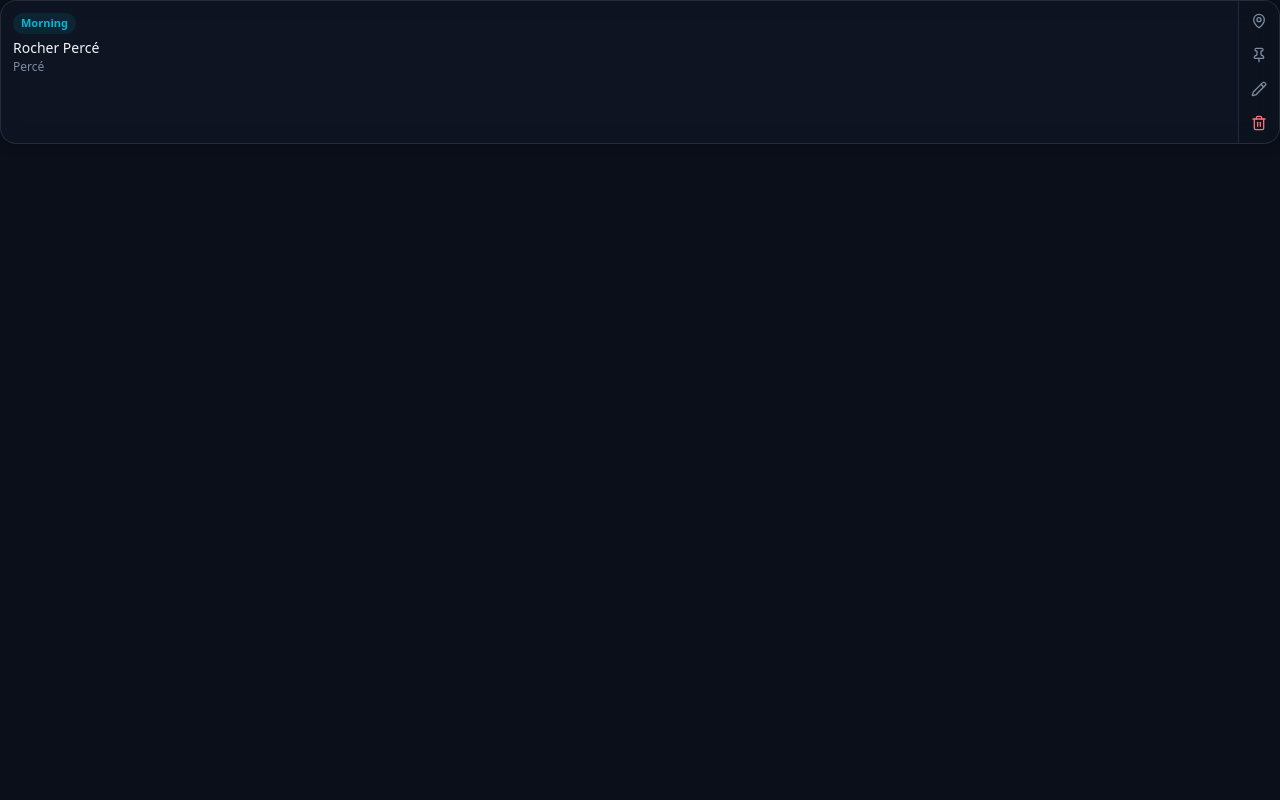
every editor ends the same way › the itinerary card says Save
The image size is (1280, 800).
Click the button named "Edit activity". click: {"x": 1259, "y": 89}
box: [1243,73,1275,105]
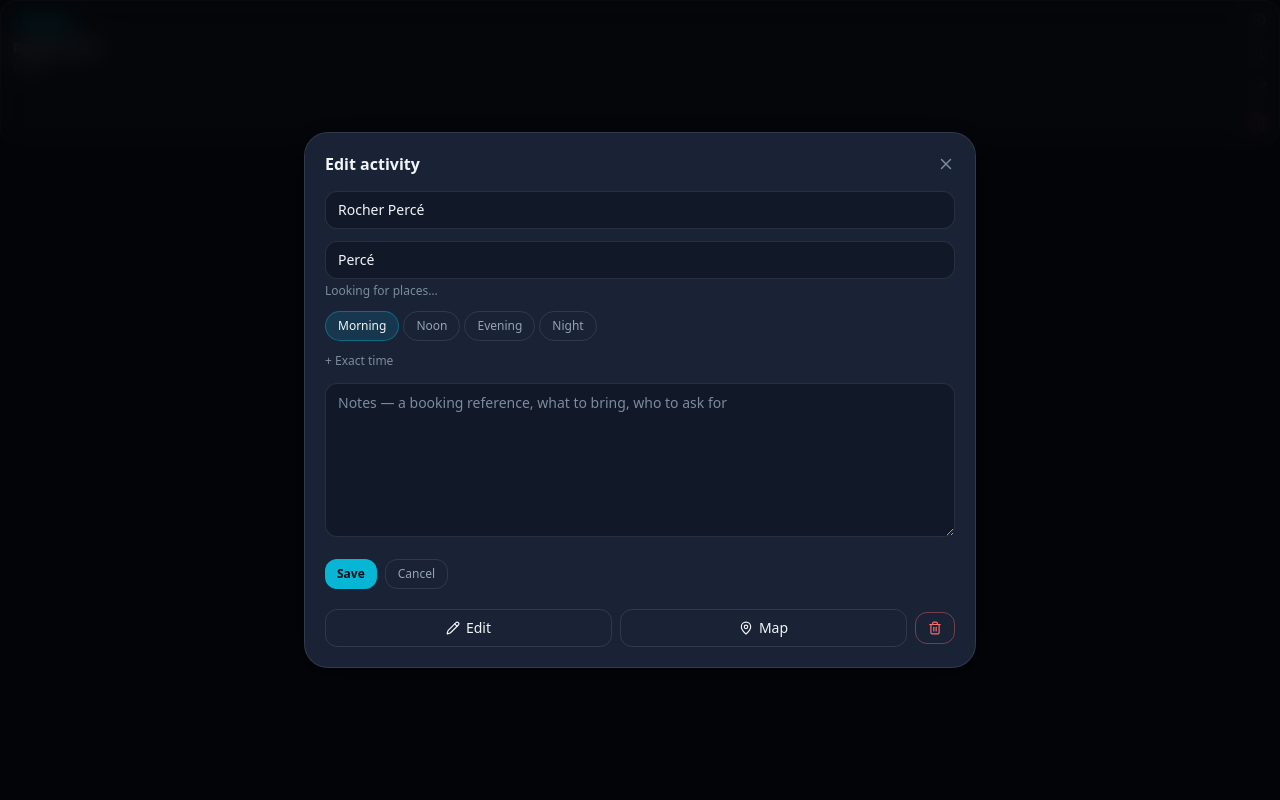
Now the button with test id "activity-save-btn" reads "Save", box [325,559,377,589]
